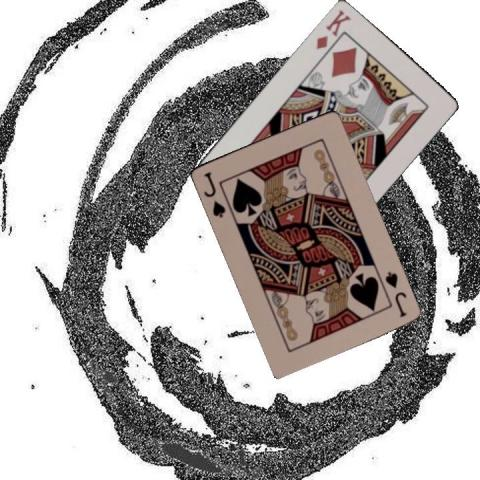Js: (381, 268, 408, 319), (200, 169, 227, 219)
Kd: (313, 7, 352, 50)
